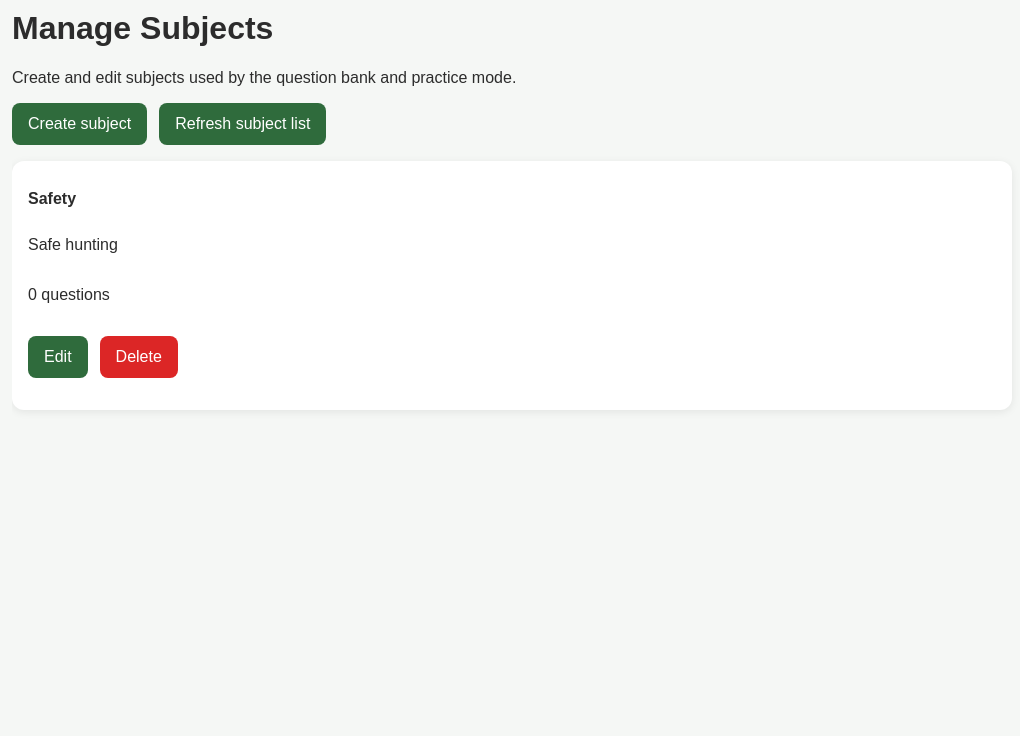
Test: Subject management › preserves the subject when deletion is refused with 409 (subject in use)
The width and height of the screenshot is (1020, 736).
Check: the heading "Safety" is shown, box [28, 190, 76, 207]
Click the button with aria-label "Delete subject Safety". click: (139, 357)
box: [100, 336, 178, 378]
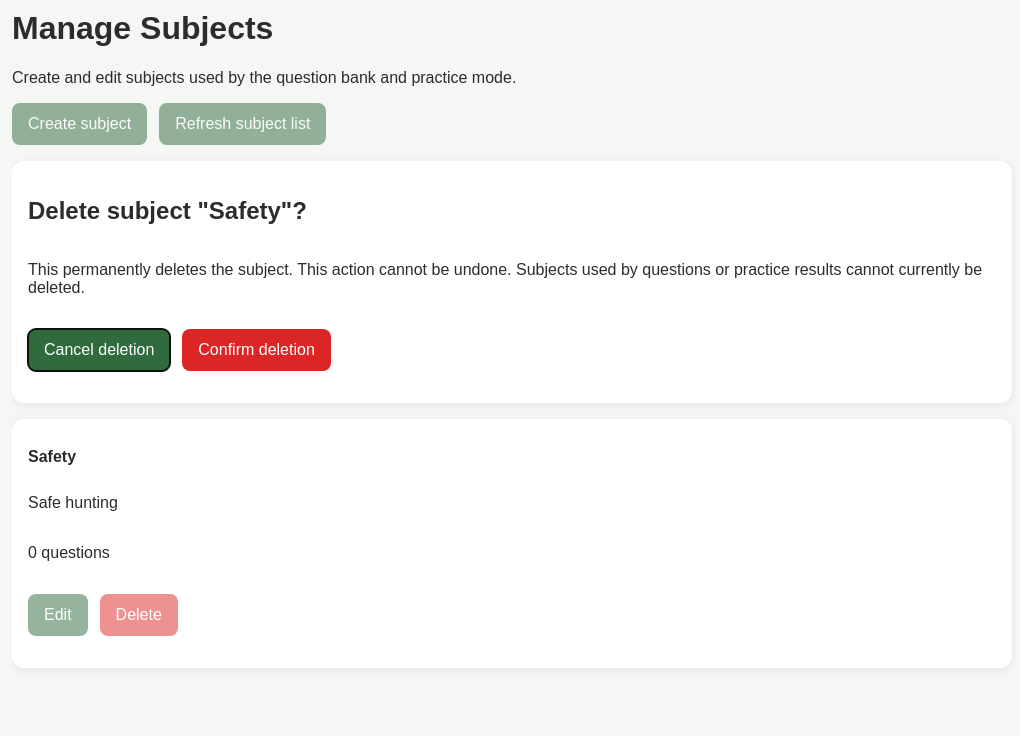
Click the button "Confirm deletion". click: (257, 350)
box: [182, 329, 331, 371]
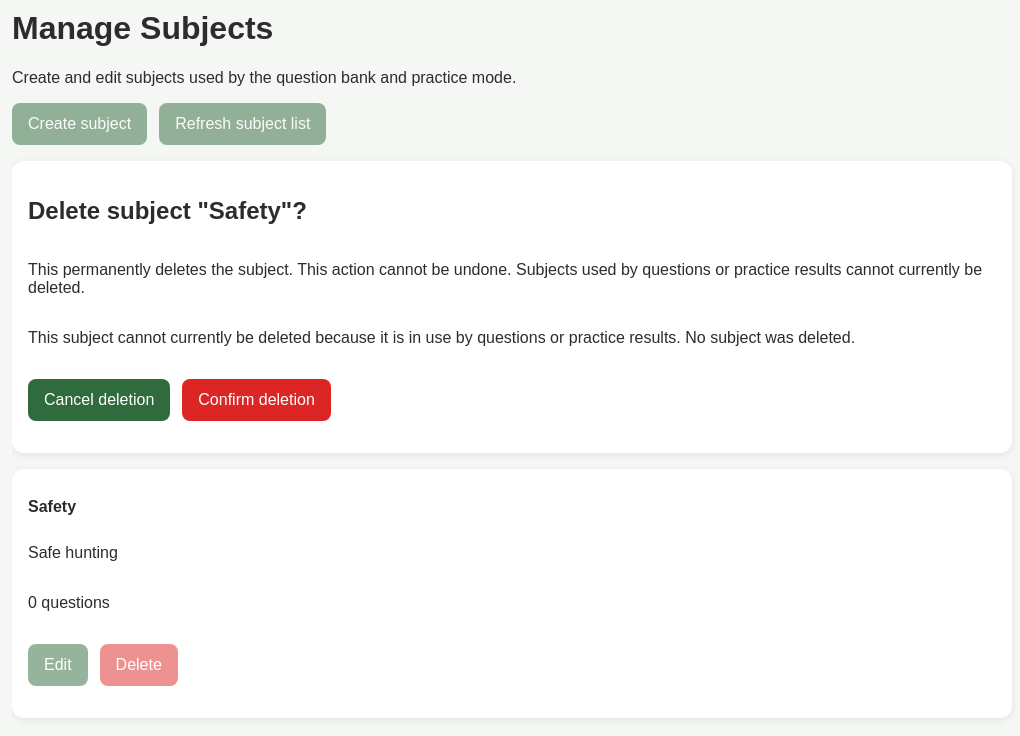
Check: the heading "Safety" is shown, box [28, 498, 76, 515]
Check: the message shows "in use by questions or practice results", box [28, 329, 855, 346]
